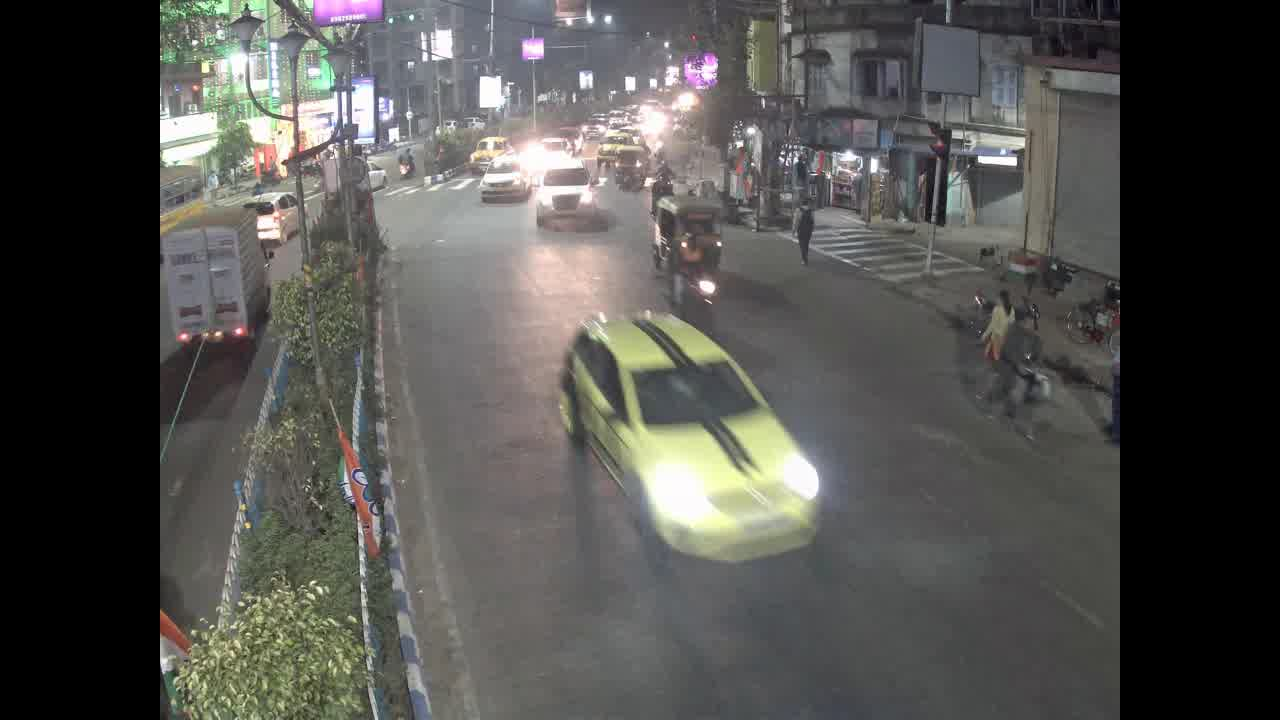auto-rickshaw: (655, 192, 720, 277), (613, 142, 645, 196)
car: (548, 306, 826, 568), (539, 169, 610, 248), (246, 195, 308, 241), (488, 152, 526, 208)
person: (965, 271, 1008, 345), (787, 186, 826, 266), (668, 231, 714, 284), (1012, 307, 1040, 368)
